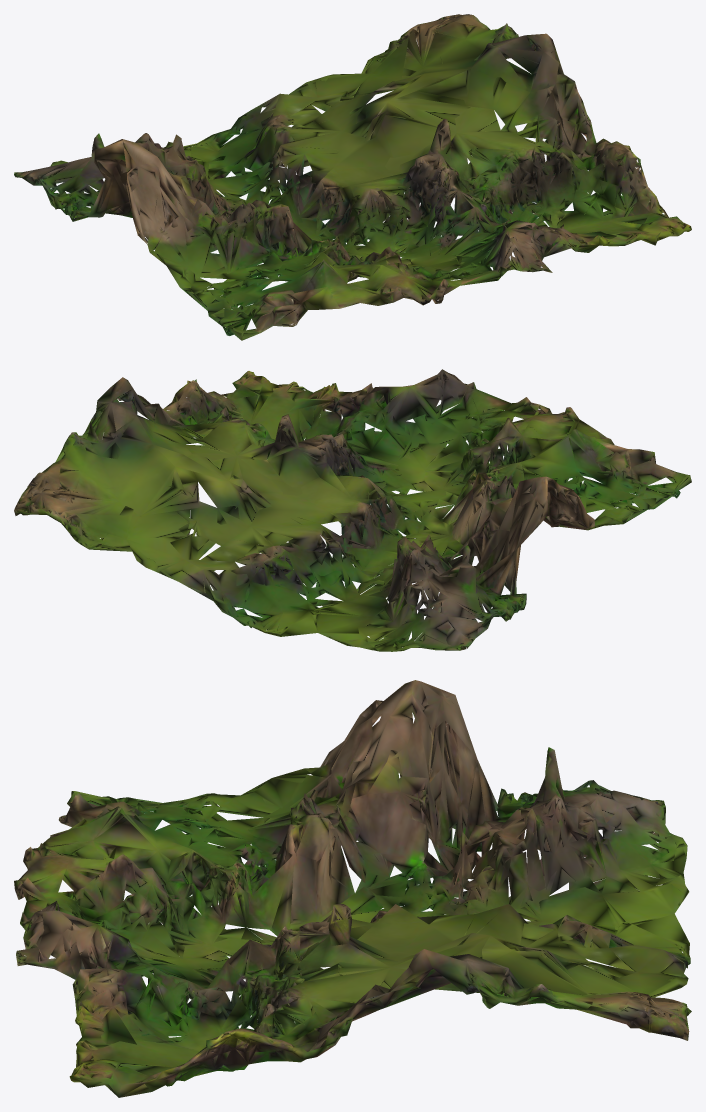
Rendered from Meshy_AI_Make_a_terrain_1016071105_texture.fbx.
3 views of the same model, one above another, from view 1: azimuth 30°, elevation 25°; view 2: azimuth 150°, elevation 25°; view 3: azimuth 270°, elevation 25° (orthographic). The views are drawn at different scales.
Parts seen in each view (by area): view 1: Mesh_0; view 2: Mesh_0; view 3: Mesh_0.
Boxes of the visible parts, left/top/right/bottom form: Mesh_0: left=14, top=14, right=691, bottom=340; Mesh_0: left=14, top=369, right=691, bottom=651; Mesh_0: left=14, top=680, right=691, bottom=1097.
Size of the model in its own units: 199 by 54.58 by 200.
Materials: 1 (1 with a texture image).
